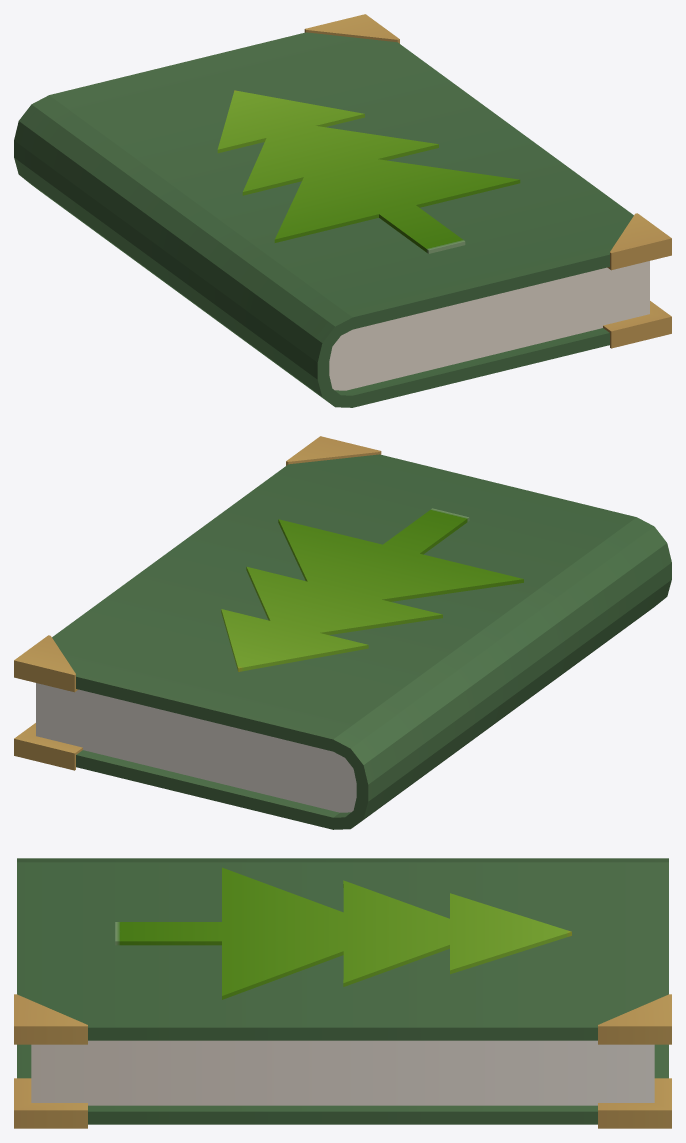
The model's file is SM_Book_02.fbx.
The picture shows the model from 3 angles, top to bottom: view 1: azimuth 30°, elevation 25°; view 2: azimuth 150°, elevation 25°; view 3: azimuth 270°, elevation 25°; orthographic projection. The views are drawn at different scales.
Visible parts, largest first — view 1: SM_Book_02; view 2: SM_Book_02; view 3: SM_Book_02.
Part boxes in pixels (x1,y1,x2,y2): SM_Book_02: [14, 14, 671, 407]; SM_Book_02: [14, 436, 671, 829]; SM_Book_02: [14, 858, 671, 1128].
Size of the model in its own units: 15.1 by 3.95 by 22.7.
